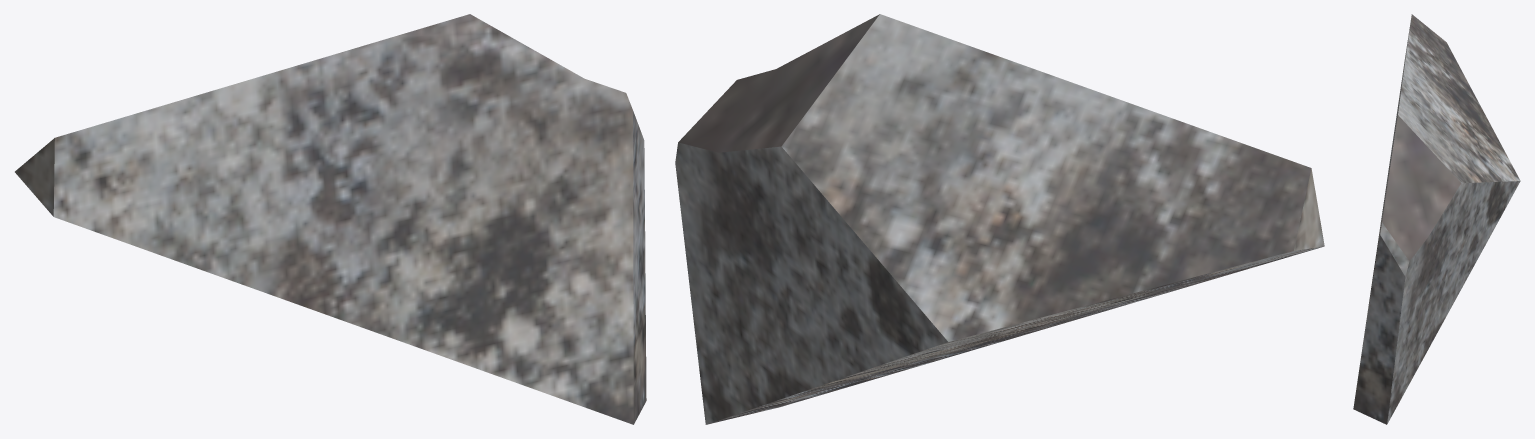
Rendered from Asteroid_Large_001_02_009_03_024.fbx.
3 renders of one model, left to right at view 1: azimuth 30°, elevation 25°; view 2: azimuth 150°, elevation 25°; view 3: azimuth 270°, elevation 25°, orthographic. The views are drawn at different scales.
Visible parts, largest first — view 1: Asteroid_Large_001_02_009_03_024; view 2: Asteroid_Large_001_02_009_03_024; view 3: Asteroid_Large_001_02_009_03_024.
Boxes of the visible parts, x1,y1,x2,y2 form: Asteroid_Large_001_02_009_03_024: (15, 14, 646, 424); Asteroid_Large_001_02_009_03_024: (675, 14, 1324, 424); Asteroid_Large_001_02_009_03_024: (1353, 14, 1520, 424).
Bounding box in the file's own units: 6.82 × 4.6 × 2.69.
